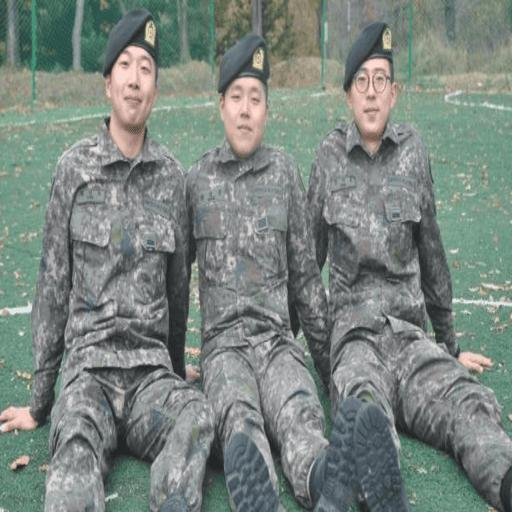korea army: (9, 8, 210, 508), (306, 25, 511, 507), (182, 41, 356, 510)
